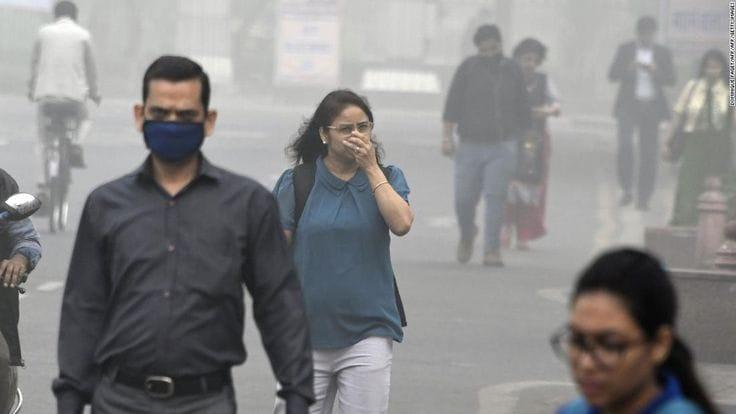Deteksi-Objek-Citra-Berasap: (0, 0, 736, 414)
Kendaraan: (0, 192, 42, 414), (35, 103, 88, 233), (504, 134, 558, 253)
Manusia: (51, 54, 315, 414), (272, 90, 415, 414), (550, 246, 720, 414), (441, 24, 531, 265), (28, 0, 101, 193), (607, 15, 678, 212), (665, 48, 736, 225), (505, 38, 561, 250), (0, 168, 41, 364)
